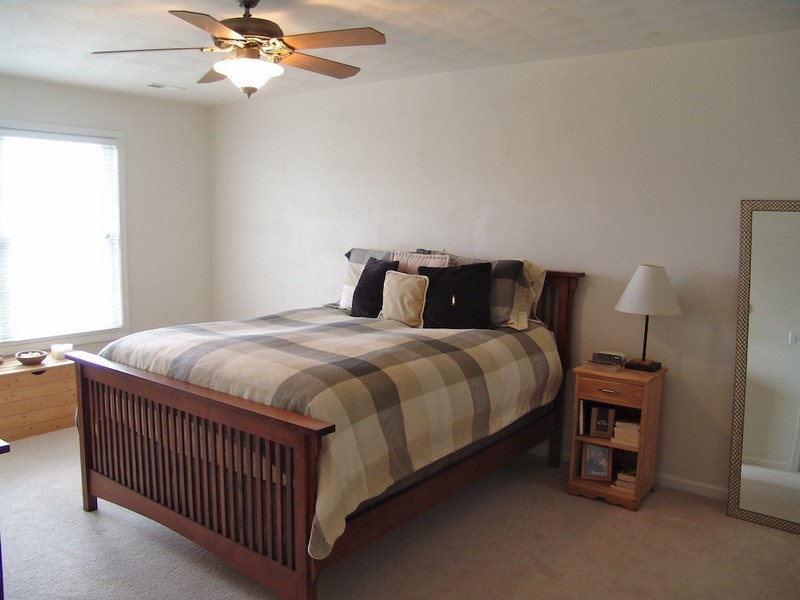bed: (85, 240, 569, 578)
lamp: (614, 259, 681, 373)
stool: (572, 357, 660, 515), (1, 348, 83, 434)
